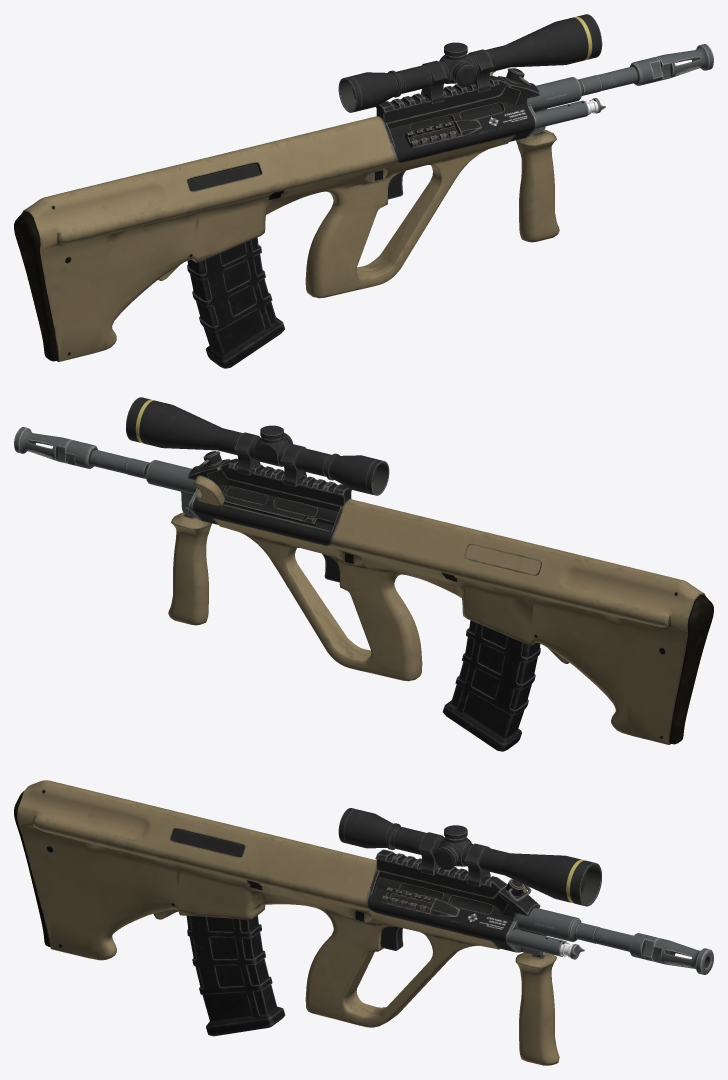
File: arclight.glb
3 renders of one model, top to bottom at view 1: azimuth 30°, elevation 25°; view 2: azimuth 150°, elevation 25°; view 3: azimuth 330°, elevation 25°, orthographic.
Visible parts, largest first — view 1: polySurface8_polySurface8_Gun_0, polySurface8_Scope_0, magazine_low_Magazine_0; view 2: polySurface8_polySurface8_Gun_0, polySurface8_Scope_0, magazine_low_Magazine_0; view 3: polySurface8_polySurface8_Gun_0, polySurface8_Scope_0, magazine_low_Magazine_0.
Part boxes in pixels (bbox=[...]): polySurface8_polySurface8_Gun_0: bbox=[14, 44, 713, 361]; polySurface8_Scope_0: bbox=[338, 14, 602, 112]; magazine_low_Magazine_0: bbox=[187, 237, 284, 368]; polySurface8_polySurface8_Gun_0: bbox=[14, 427, 713, 744]; polySurface8_Scope_0: bbox=[126, 397, 389, 495]; magazine_low_Magazine_0: bbox=[442, 620, 540, 751]; polySurface8_polySurface8_Gun_0: bbox=[14, 780, 713, 1065]; polySurface8_Scope_0: bbox=[338, 808, 601, 906]; magazine_low_Magazine_0: bbox=[186, 915, 285, 1036].
Size of the model in its own units: 0.8 by 0.2887 by 0.0772.
Materials: 4 (3 with a texture image).
